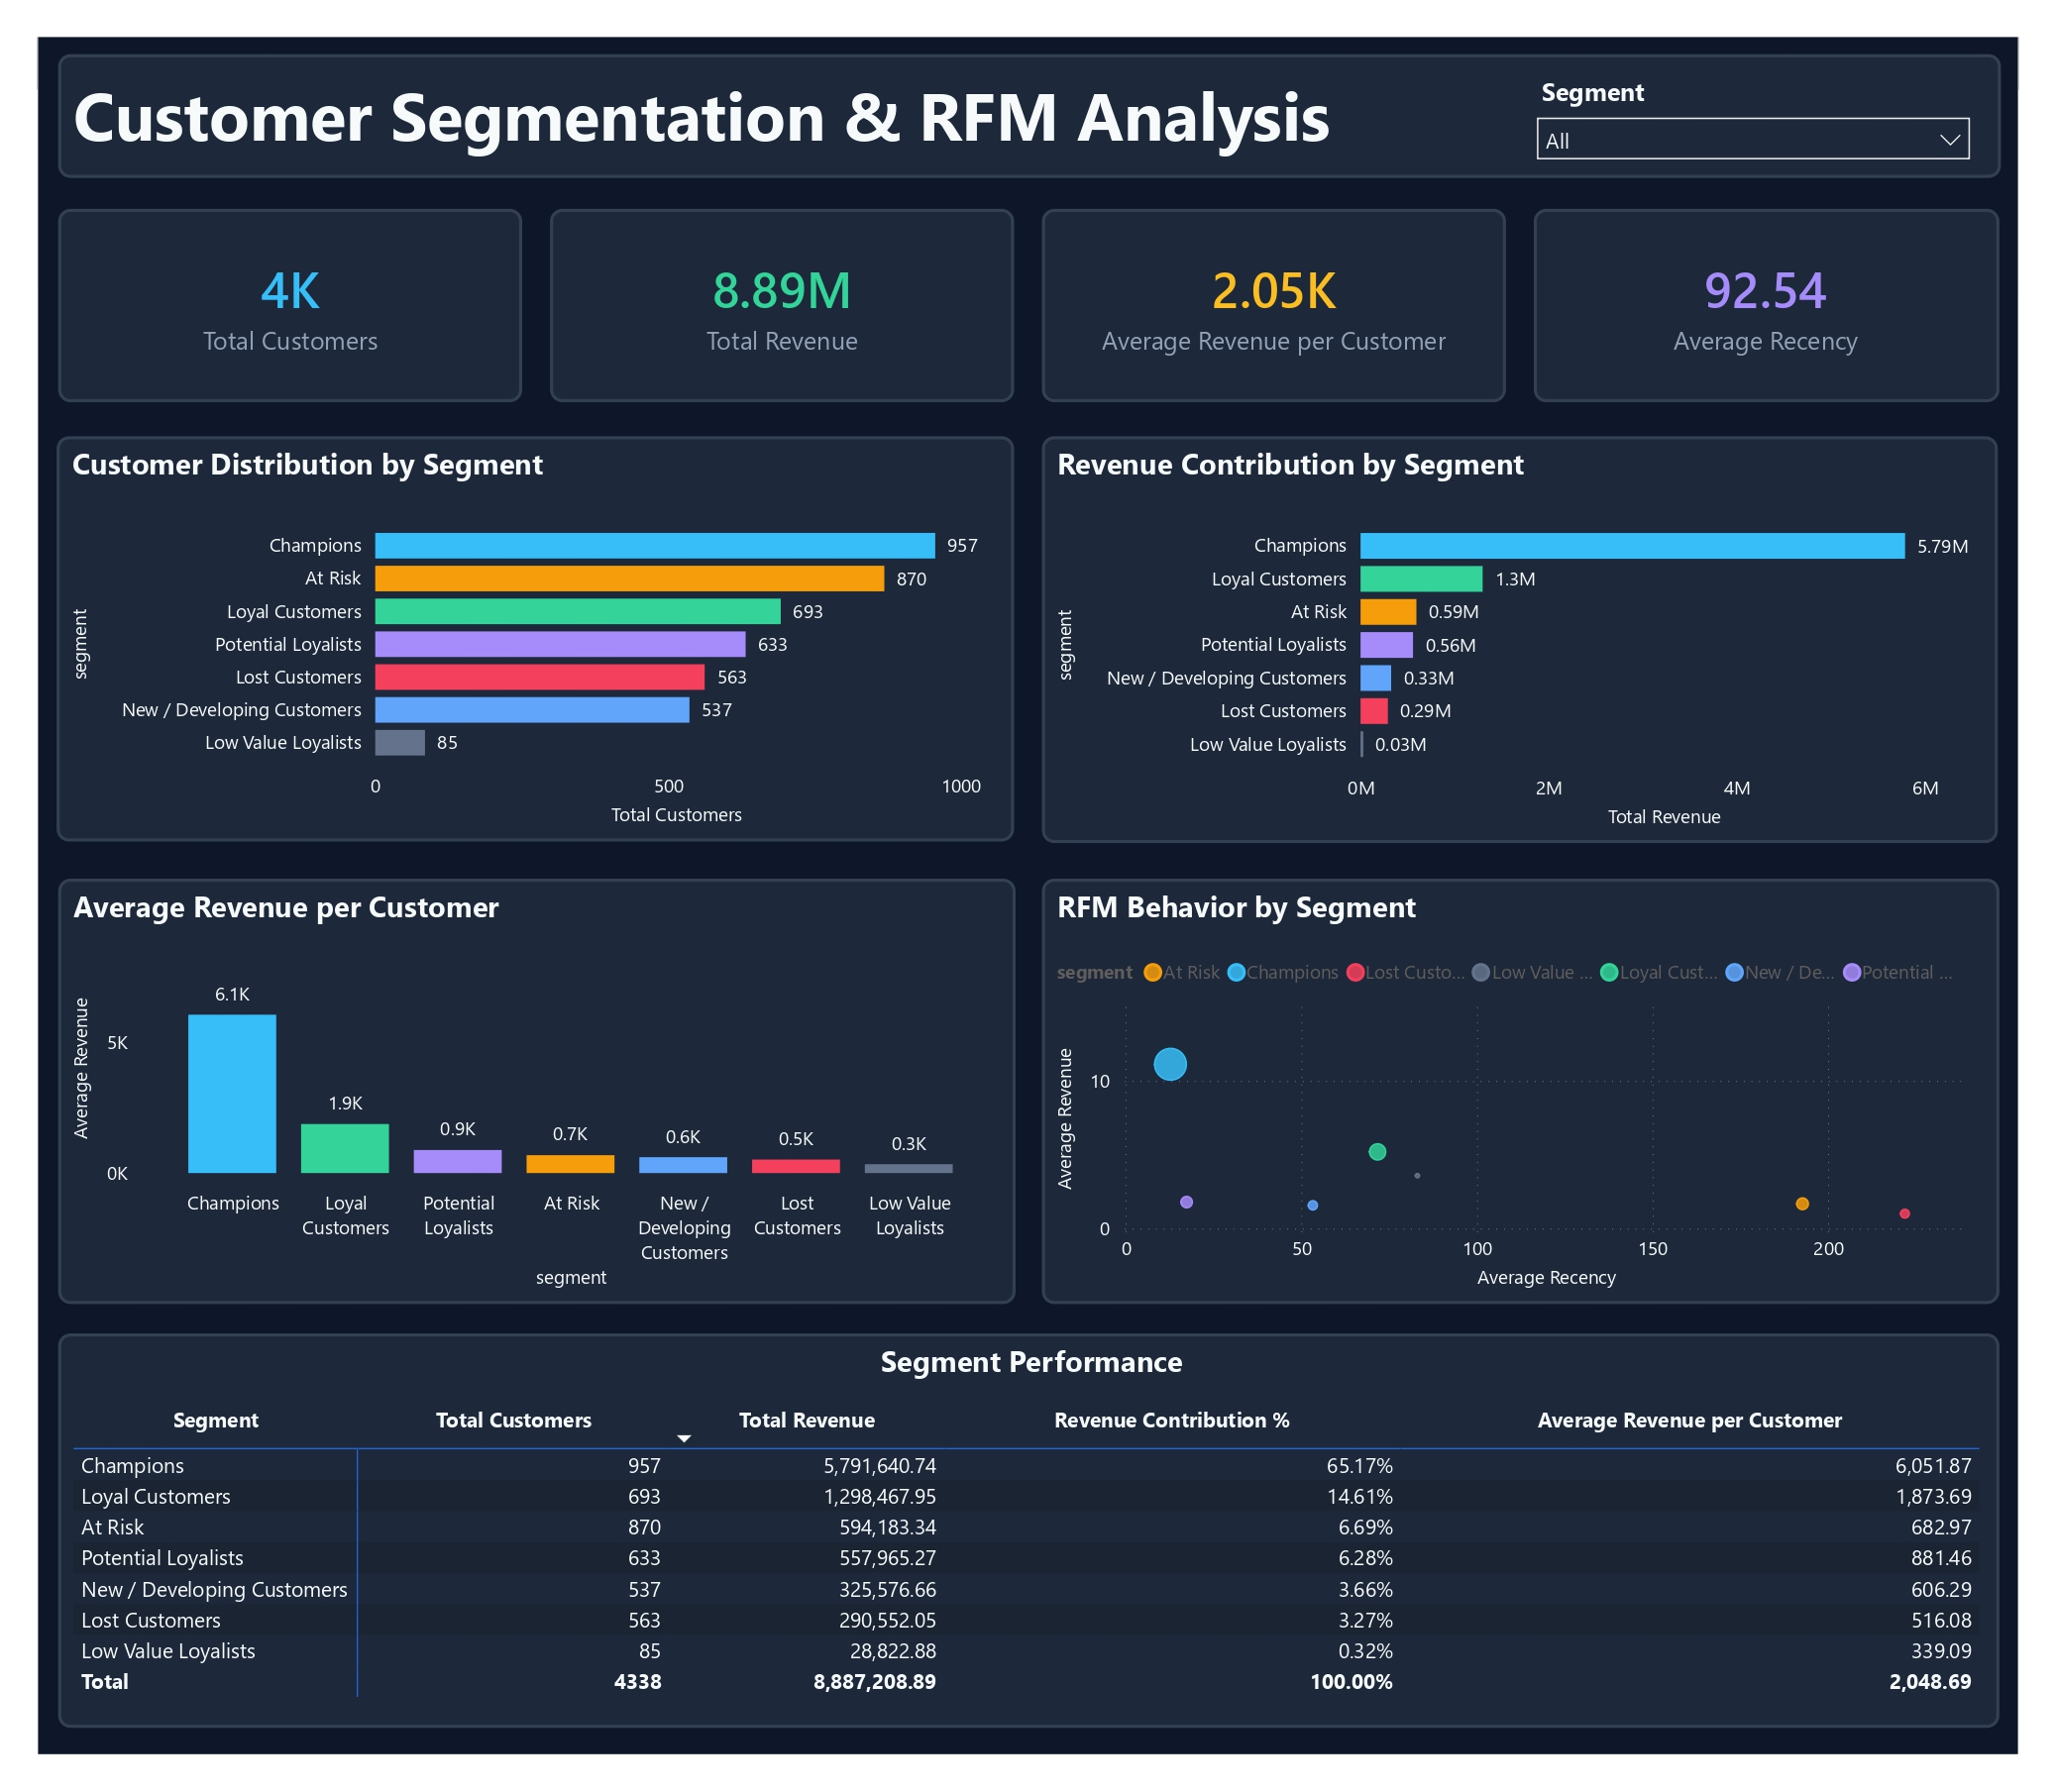

What the dashboard file says about the page in this screenshot:
{"tool":"powerbi","page":{"name":"Customer Segmentation & RFM Analysis","canvas":[1280,1110],"ordinal":0},"visuals":[{"type":"cardVisual","fields":{"Data":["CustomerRFM.Total Customers"]},"box":[12.5,110.8,300.1,125.7],"z":0},{"type":"cardVisual","fields":{"Data":["CustomerRFM.Total Revenue"]},"box":[330.8,110.8,300.1,125.7],"z":1000},{"type":"cardVisual","fields":{"Data":["CustomerRFM.Average Revenue per Customer"]},"box":[649.1,110.8,300.1,125.7],"z":2000},{"type":"cardVisual","fields":{"Data":["CustomerRFM.Average Recency"]},"box":[967.4,110.8,300.1,125.7],"z":3000},{"type":"clusteredBarChart","title":"Customer Distribution by Segment","fields":{"Category":["CustomerRFM.segment"],"Y":["CustomerRFM.Total Customers"]},"box":[12.2,257.5,618.7,262.5],"z":4000},{"type":"clusteredBarChart","title":"Revenue Contribution by Segment","fields":{"Category":["CustomerRFM.segment"],"Y":["CustomerRFM.Total Revenue"]},"box":[648.6,258.1,618.7,262.5],"z":5000},{"type":"clusteredColumnChart","title":"Average Revenue per Customer","fields":{"Category":["CustomerRFM.segment"],"Y":["CustomerRFM.Average Revenue per Customer"]},"box":[12.9,543.6,618.7,275.2],"z":6000},{"type":"scatterChart","title":"RFM Behavior by Segment","fields":{"Series":["CustomerRFM.segment"],"X":["CustomerRFM.Average Recency"],"Y":["CustomerRFM.Average Frequency"],"Size":["CustomerRFM.Total Revenue"]},"box":[649.1,543.6,618.7,275.2],"z":7000},{"type":"pivotTable","title":"Segment Performance","fields":{"Rows":["CustomerRFM.segment"],"Values":["CustomerRFM.Total Customers","CustomerRFM.Total Revenue","CustomerRFM.Revenue Contribution %","CustomerRFM.Average Revenue per Customer"]},"box":[12.5,837.5,1255,255],"z":8000},{"type":"textbox","box":[12.5,10.9,1256,79.8],"z":9000},{"type":"slicer","fields":{"Values":["CustomerRFM.segment"]},"box":[958.8,18.8,300.3,65.7],"z":10000}]}

Visuals, with their boxes in screenshot pixels (x1, y1, x2, y2):
cardVisual - CustomerRFM.Total Customers: pyautogui.locateOnScreen(31, 197, 506, 396)
cardVisual - CustomerRFM.Total Revenue: pyautogui.locateOnScreen(535, 197, 1010, 396)
cardVisual - CustomerRFM.Average Revenue per Customer: pyautogui.locateOnScreen(1039, 197, 1514, 396)
cardVisual - CustomerRFM.Average Recency: pyautogui.locateOnScreen(1543, 197, 2018, 396)
"Customer Distribution by Segment" clusteredBarChart: pyautogui.locateOnScreen(30, 429, 1010, 845)
"Revenue Contribution by Segment" clusteredBarChart: pyautogui.locateOnScreen(1038, 430, 2018, 846)
"Average Revenue per Customer" clusteredColumnChart: pyautogui.locateOnScreen(31, 883, 1012, 1318)
"RFM Behavior by Segment" scatterChart: pyautogui.locateOnScreen(1039, 883, 2019, 1318)
"Segment Performance" pivotTable: pyautogui.locateOnScreen(31, 1348, 2018, 1751)
textbox: pyautogui.locateOnScreen(31, 39, 2020, 165)
slicer - CustomerRFM.segment: pyautogui.locateOnScreen(1530, 52, 2005, 156)
